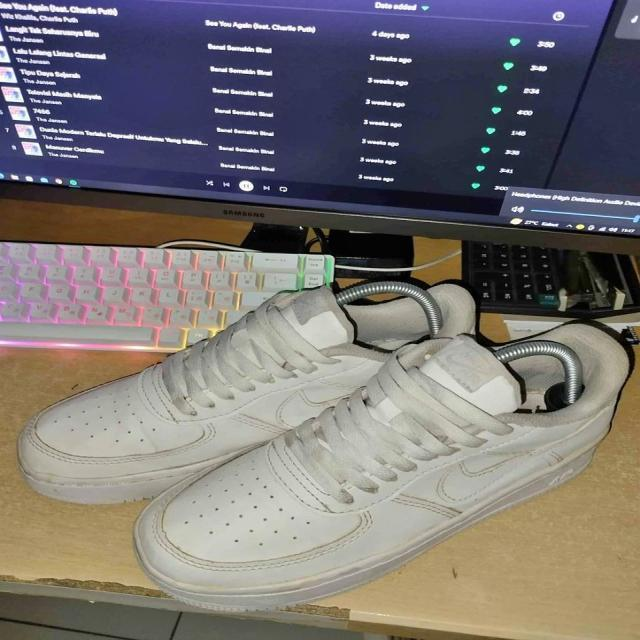nike fake air force: (133, 322, 631, 616), (15, 281, 478, 504)
